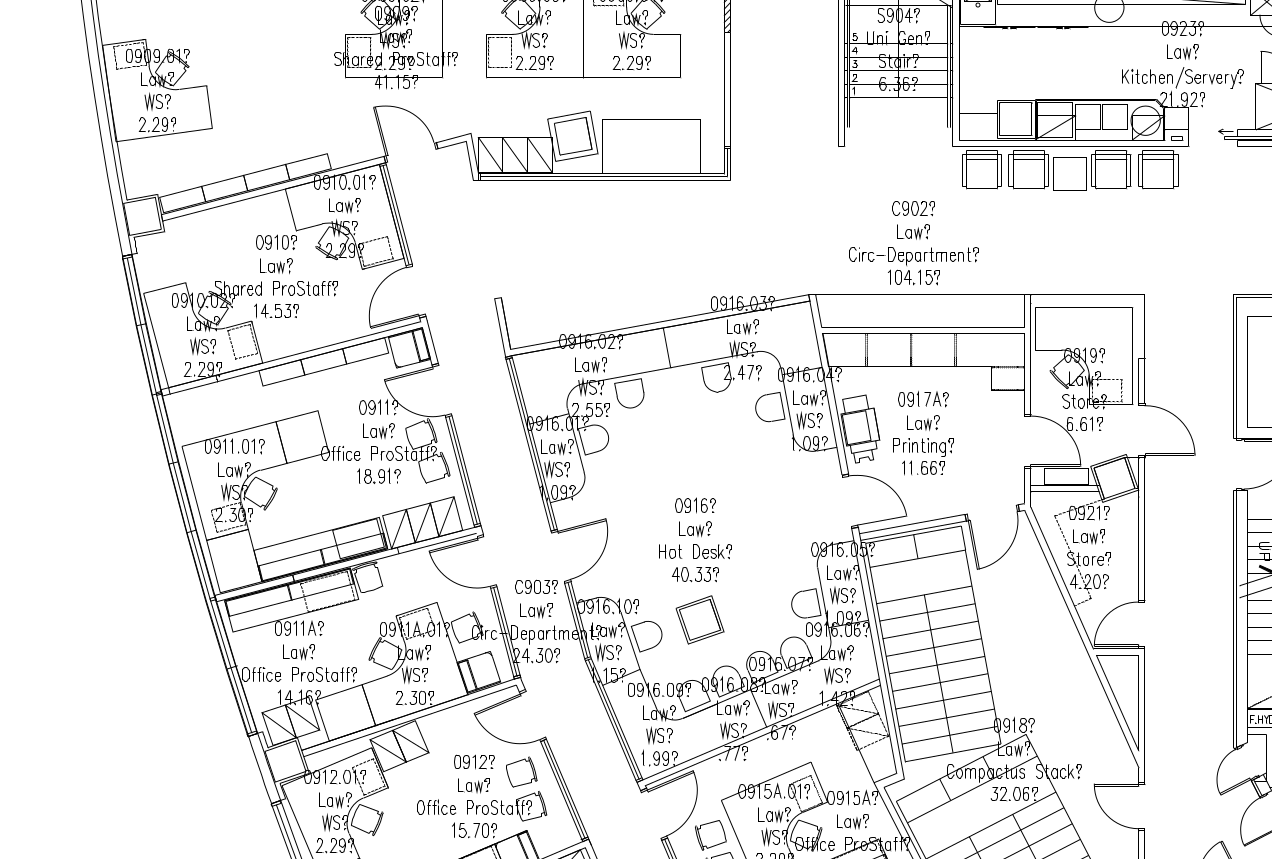door: (352, 264, 417, 331), (382, 356, 447, 423), (426, 528, 491, 595), (552, 517, 617, 584), (472, 689, 537, 756), (640, 768, 705, 835), (845, 462, 910, 529), (960, 504, 1025, 571), (373, 97, 438, 156), (1023, 410, 1086, 468), (1138, 402, 1201, 460), (1090, 595, 1149, 648), (1080, 781, 1139, 834), (1203, 741, 1253, 800), (1236, 790, 1272, 855)
